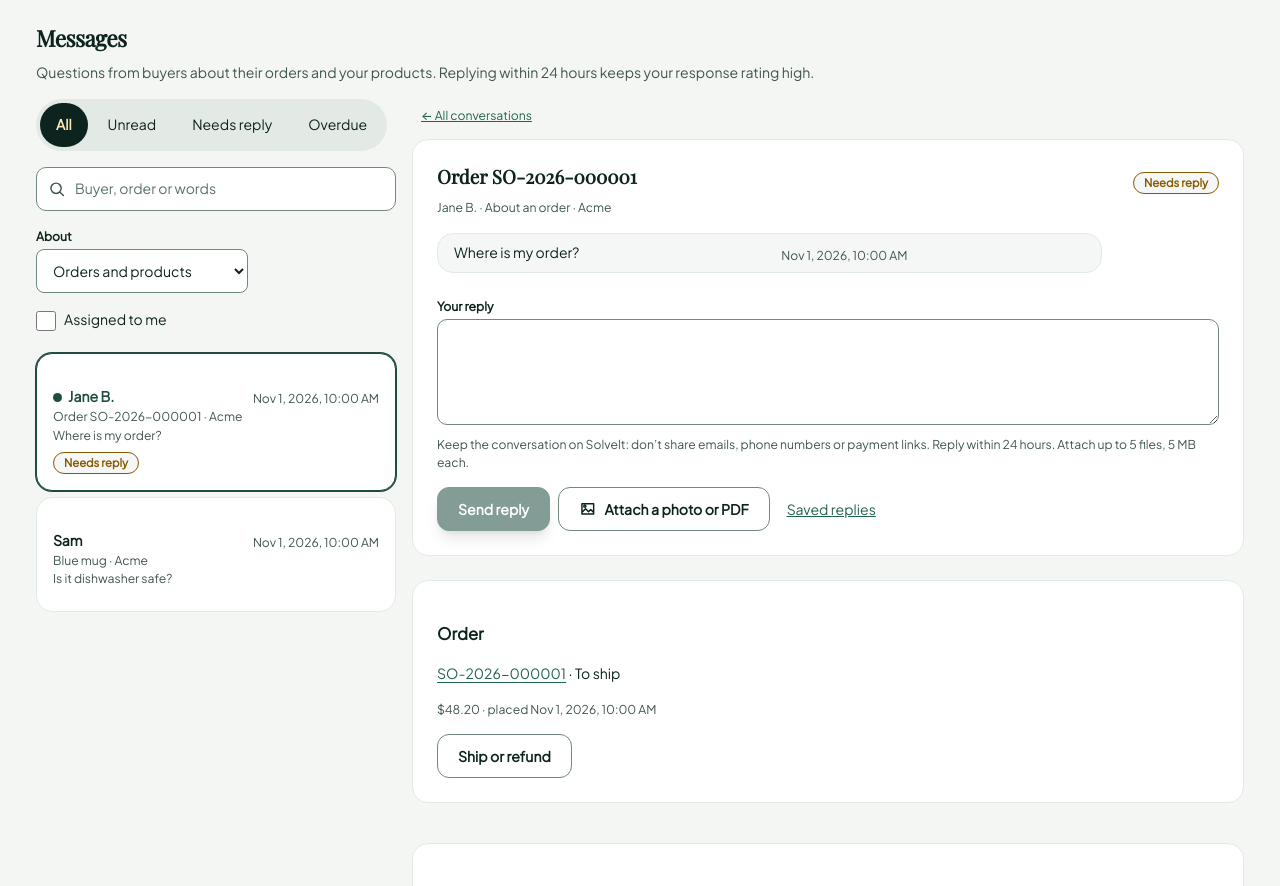
Test: conversation › warns before sharing contact details and only sends after "Send anyway"; a blocked message explains why and keeps the text
Type "mail me a@b.com" into the text box labelled "Your reply" at {"x": 828, "y": 372}, box [437,319,1219,426]
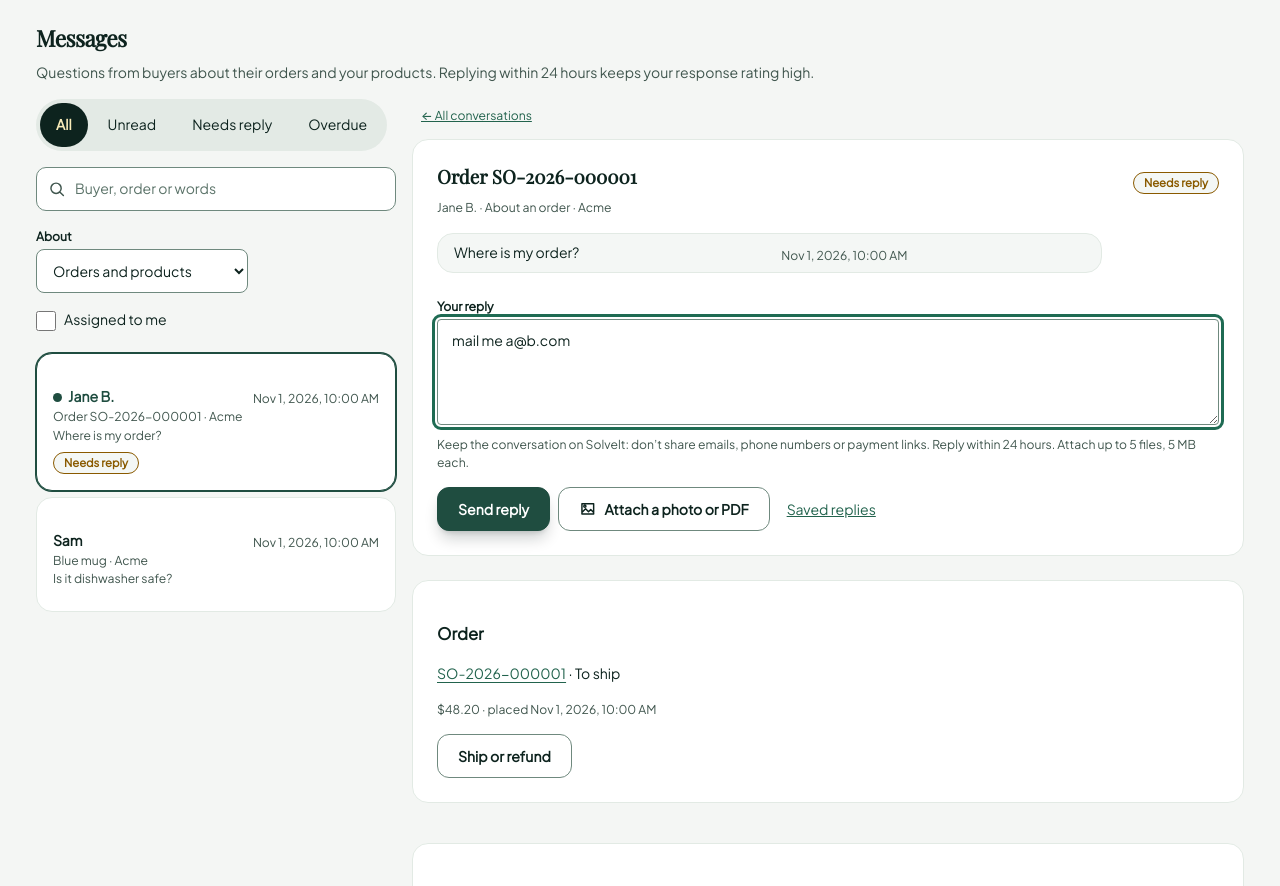
Click the button "Send reply" at {"x": 494, "y": 509}, box [437,487,550,531]
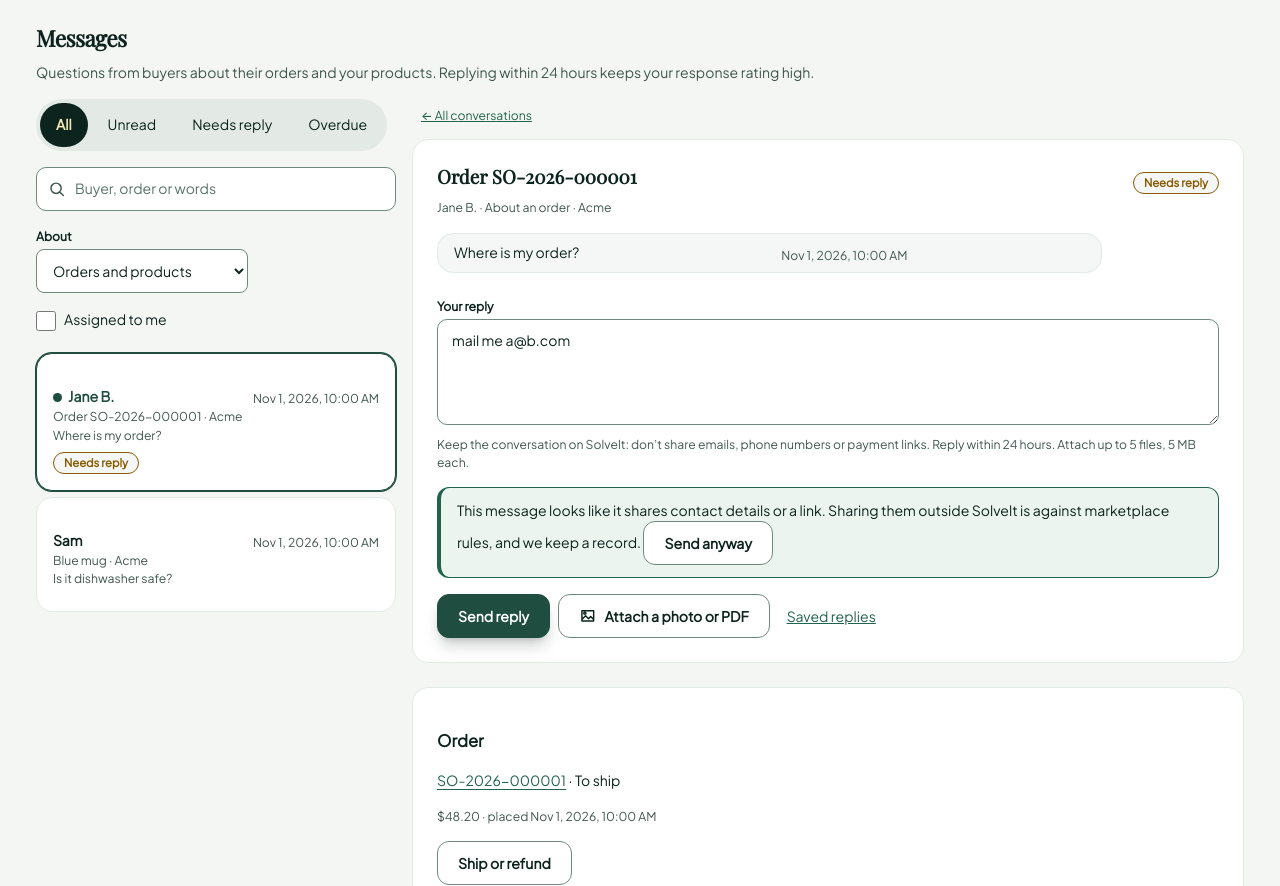
expect the text "shares contact details or a link" is shown: met, box [437,487,1219,578]
Click the button "Send anyway" at {"x": 708, "y": 543}, box [644,521,773,565]
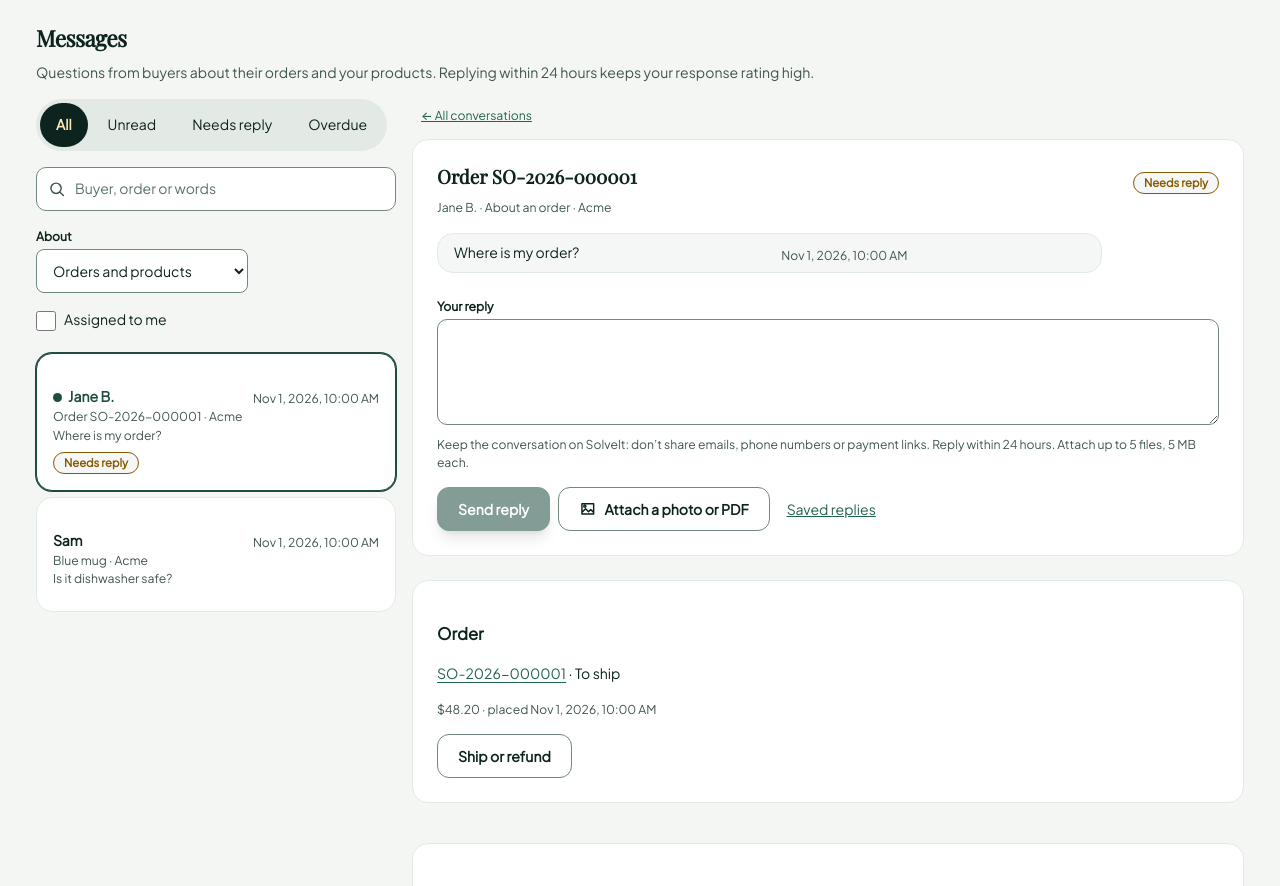
Type "call 555-123-4567" into the text box labelled "Your reply" at {"x": 828, "y": 372}, box [437,319,1219,426]
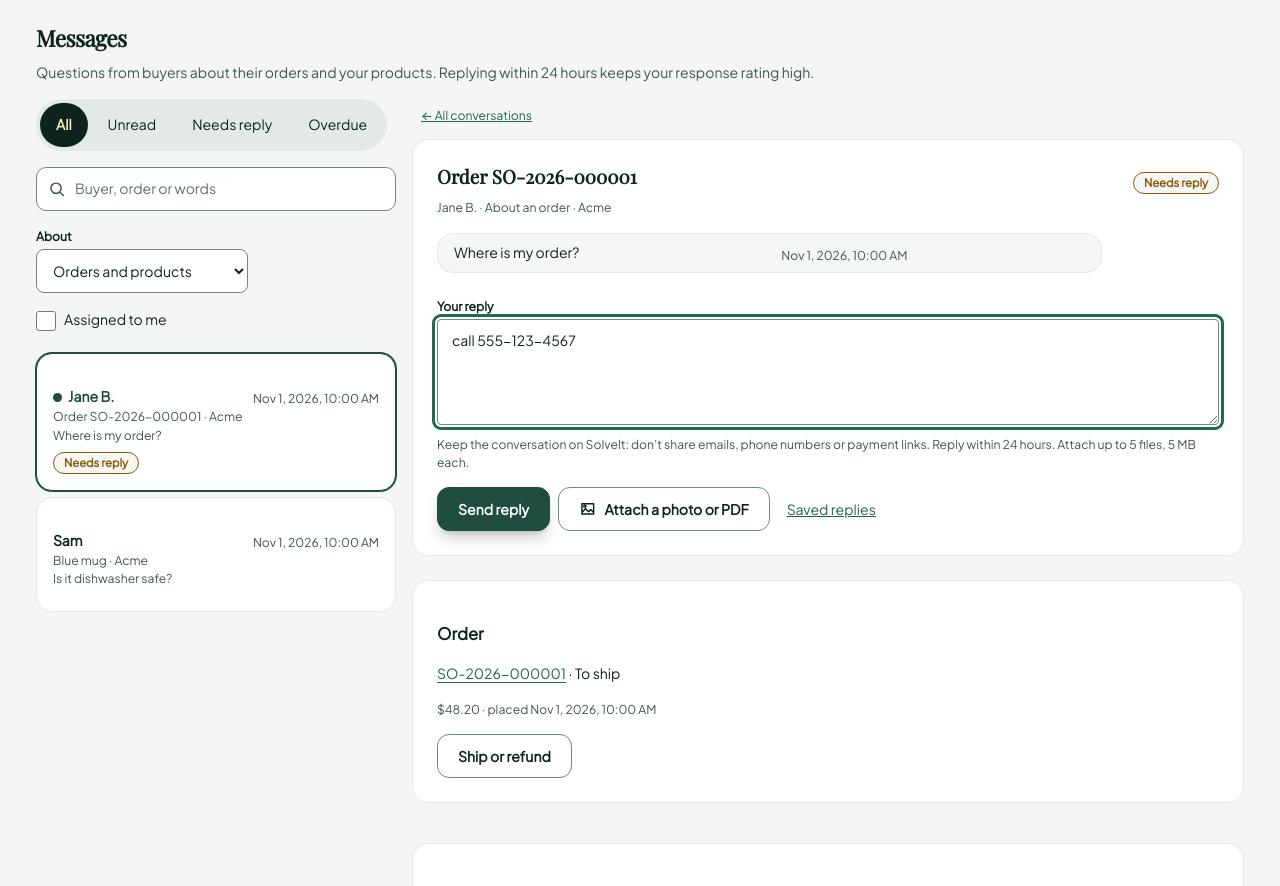
Click the button "Send reply" at {"x": 494, "y": 509}, box [437,487,550,531]
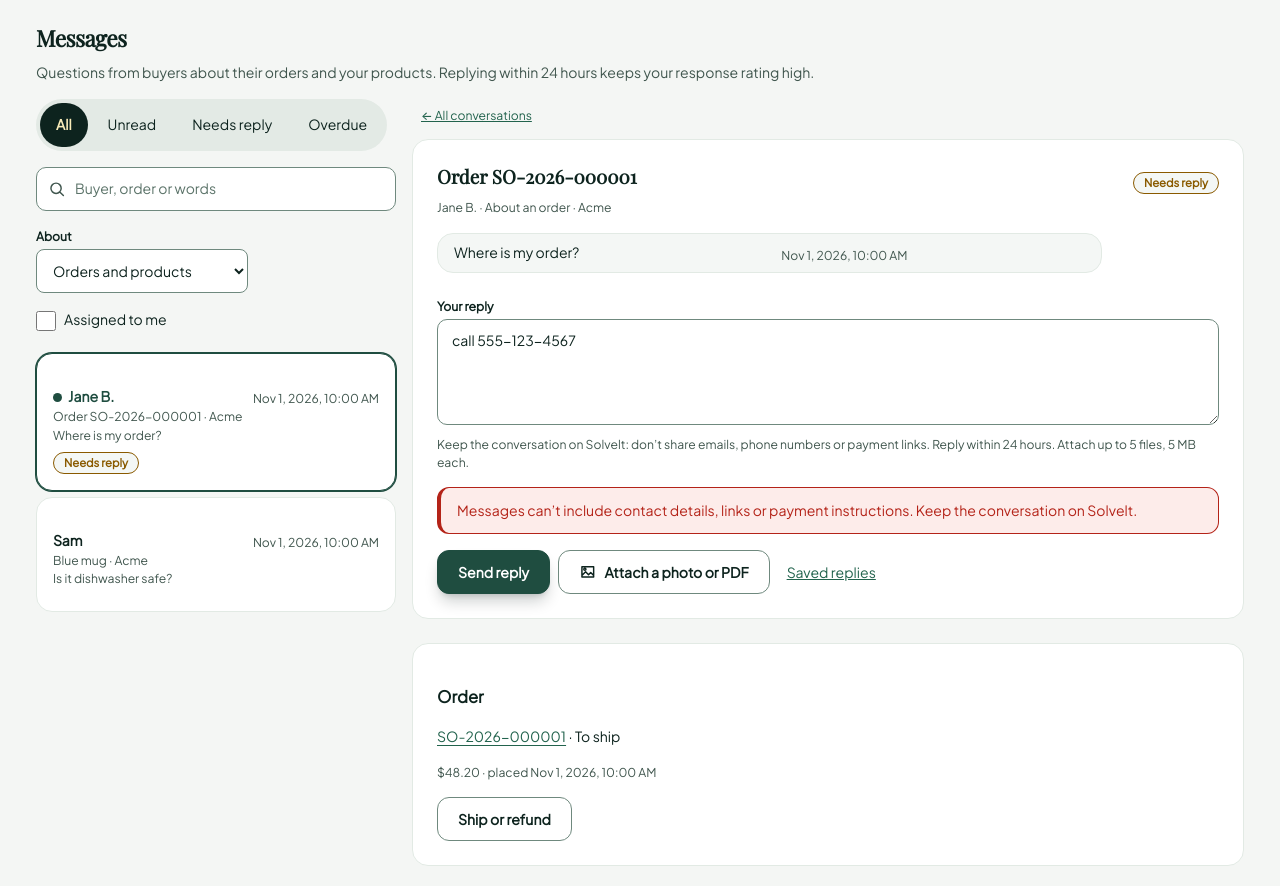
expect the text "can’t include contact details" is shown: met, box [457,501,1137,519]
